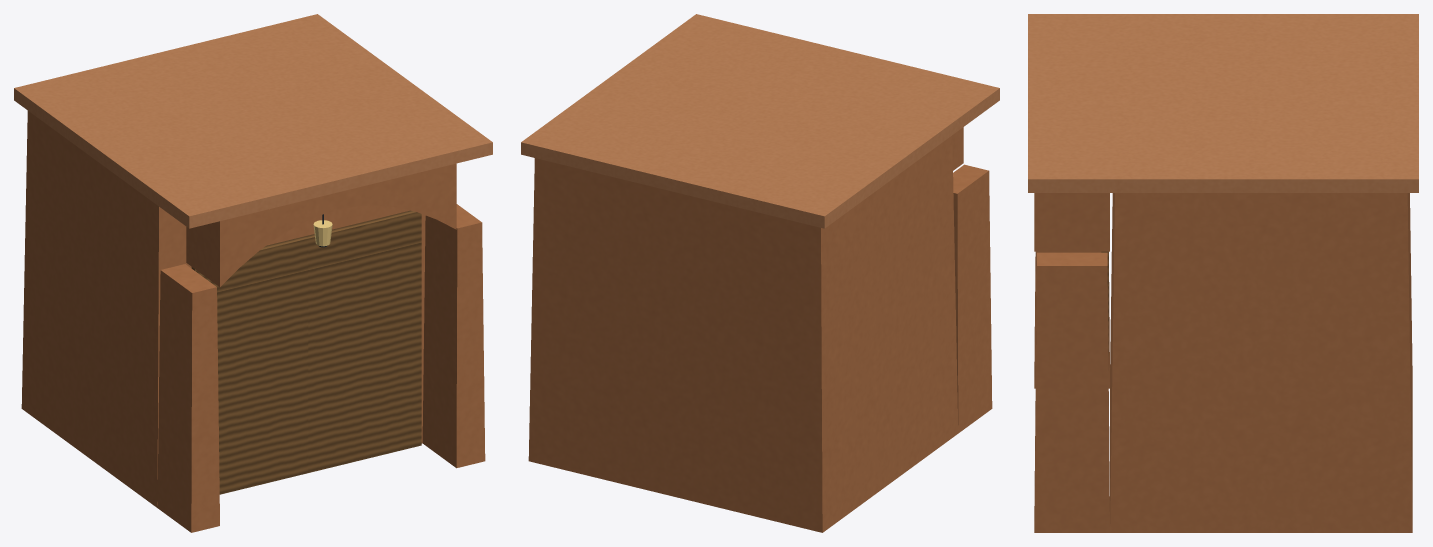
Rendered from SM_Souq_Stall_W3D30H30.fbx.
3 renders of one model, left to right at view 1: azimuth 30°, elevation 25°; view 2: azimuth 150°, elevation 25°; view 3: azimuth 270°, elevation 25°, orthographic. The views are drawn at different scales.
Parts seen in each view (by area): view 1: SM_Souq_Stall_W3D30H30; view 2: SM_Souq_Stall_W3D30H30; view 3: SM_Souq_Stall_W3D30H30.
Part boxes in pixels (<box>): SM_Souq_Stall_W3D30H30: <box>14,14,492,532</box>; SM_Souq_Stall_W3D30H30: <box>521,14,999,532</box>; SM_Souq_Stall_W3D30H30: <box>1028,14,1418,532</box>.
Bounding box in the file's own units: 3.1 × 3.12 × 3.1.
5 materials, 5 textured.
